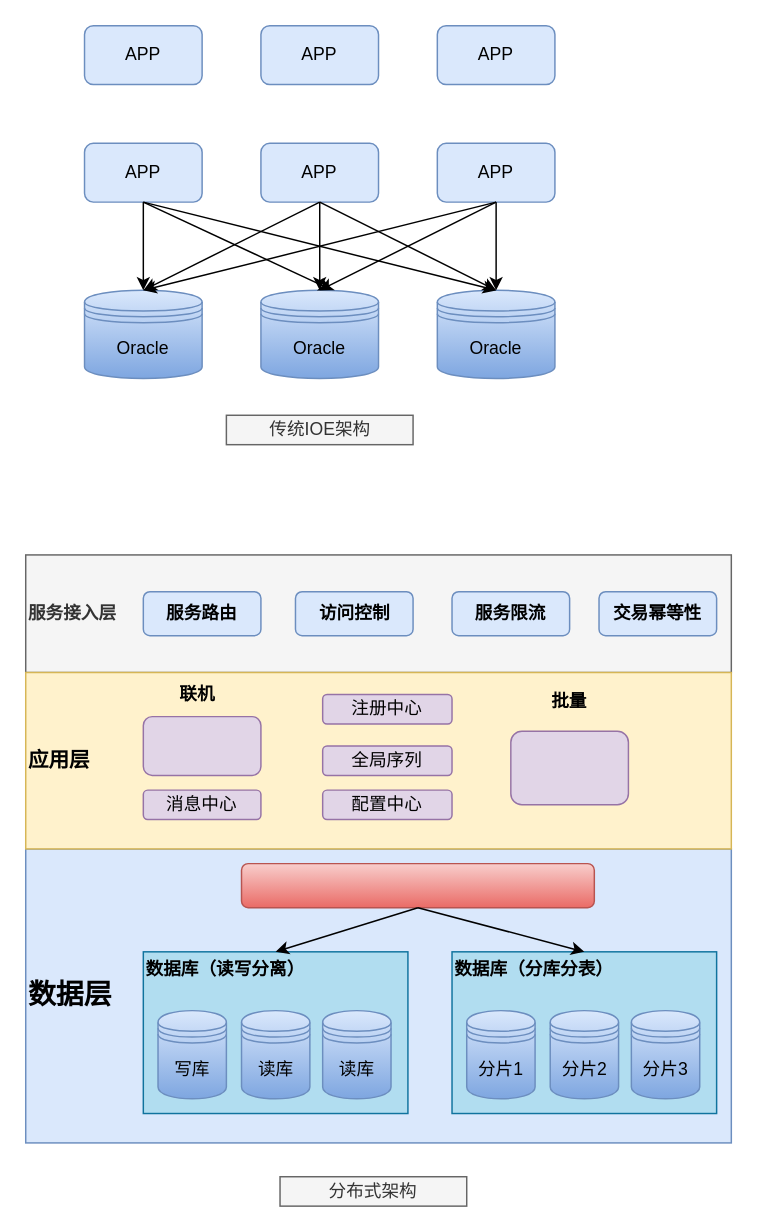
Some shapes in this 757 by 1232 pixel diagram are drawn without their labels. The shapes that lost their labels are listed below. From the top down, each one's centre as x and y in pixels, then its label:
At (201,745): "分布式服务框架".
At (568,767): "分布式批处理框架".
At (417,885): "分布式数据库访问/分布式事务".
